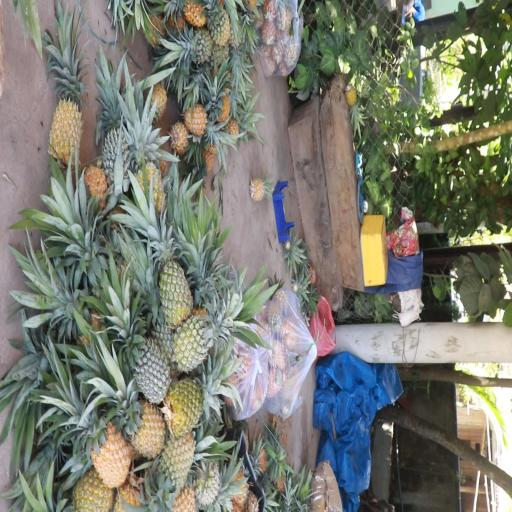------------------------------: (172, 300, 248, 372), (145, 220, 196, 321), (168, 363, 236, 429)
Pineapple - v8 v1: (74, 400, 131, 482), (113, 380, 165, 458), (50, 46, 82, 170), (128, 116, 167, 217), (152, 430, 194, 510), (183, 94, 233, 146), (66, 457, 113, 512)
